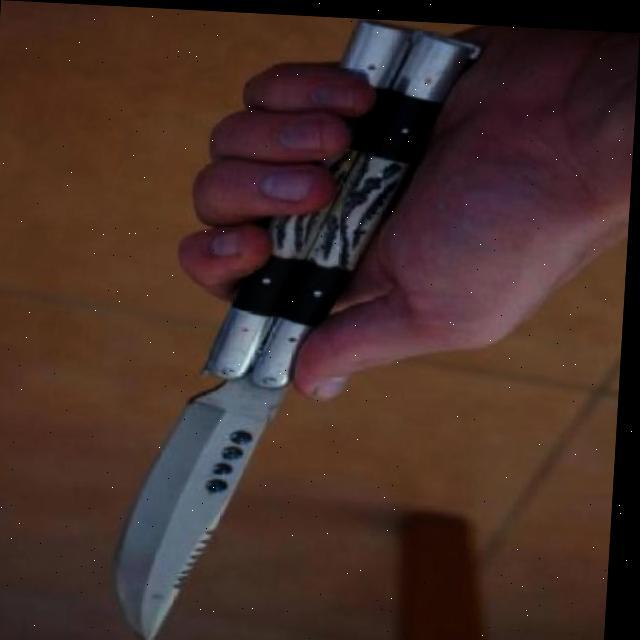knife: (117, 9, 483, 640)
